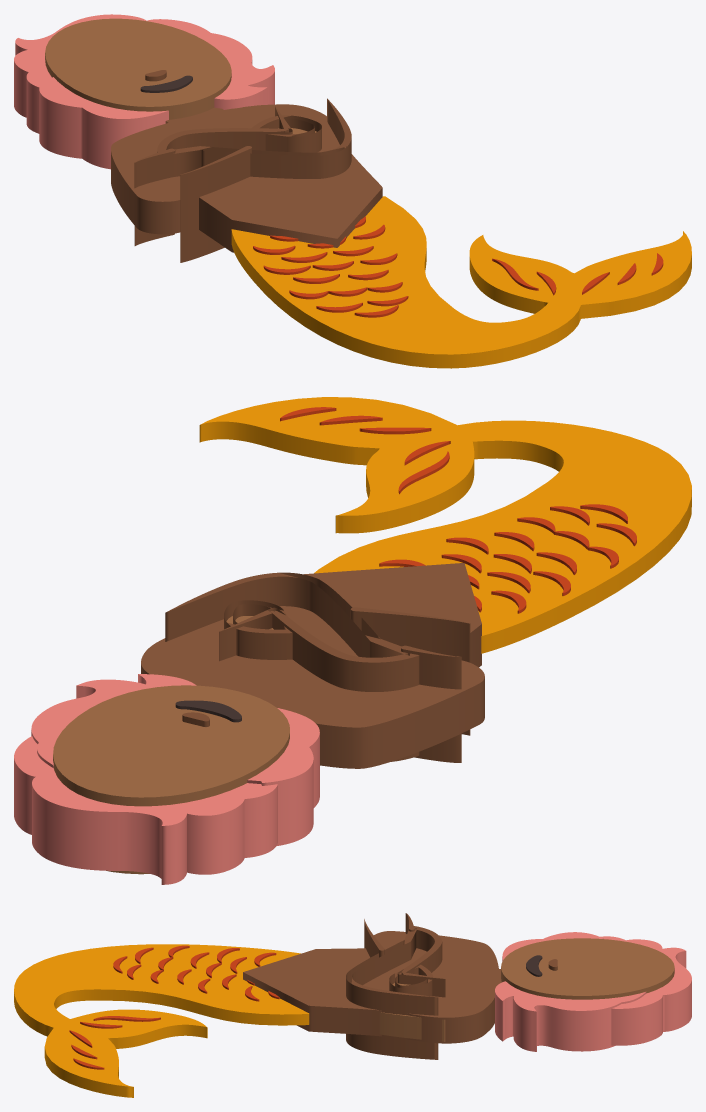
Rendered from emoji_u1f9dc_1f3fe.glb.
3 renders of one model, top to bottom at view 1: azimuth 30°, elevation 25°; view 2: azimuth 150°, elevation 25°; view 3: azimuth 270°, elevation 25°, orthographic. The views are drawn at different scales.
Visible parts, largest first — view 1: emoji_u1f9dc_1f3fe; view 2: emoji_u1f9dc_1f3fe; view 3: emoji_u1f9dc_1f3fe.
Part boxes in pixels (x1,y1,x2,y2): emoji_u1f9dc_1f3fe: (14, 14, 691, 368); emoji_u1f9dc_1f3fe: (14, 397, 691, 884); emoji_u1f9dc_1f3fe: (14, 913, 691, 1097).
Size of the model in its own units: 0.0173 by 0.0038 by 0.0333.
